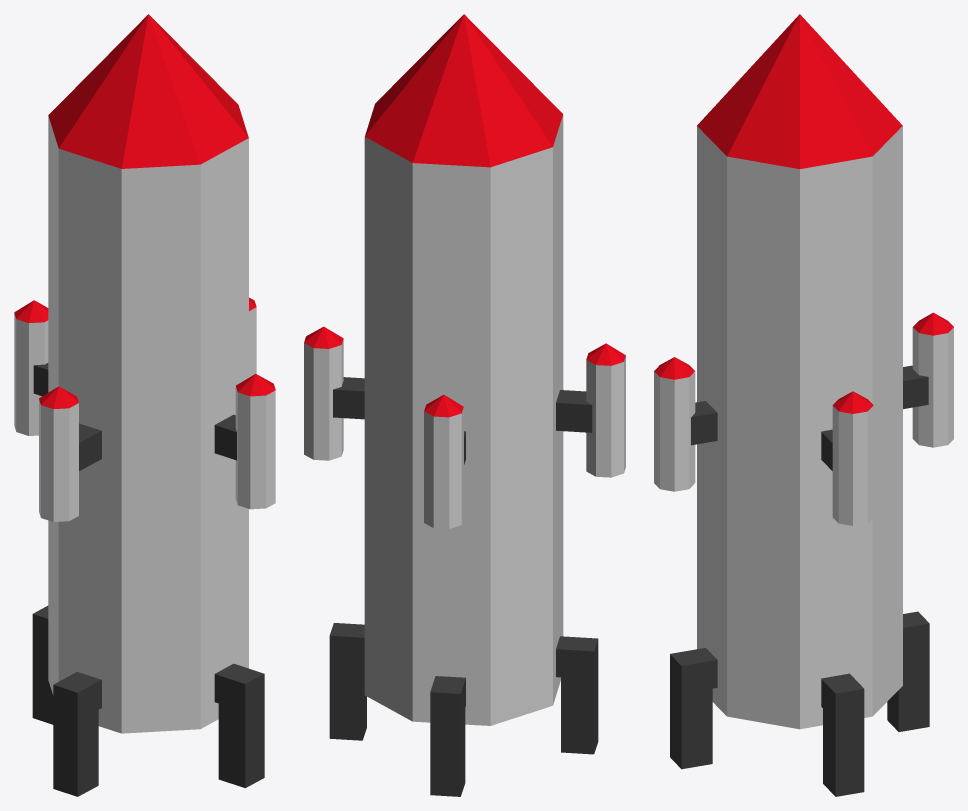
Rendered from Rocketship.fbx.
The picture shows the model from 3 angles, left to right: view 1: azimuth 30°, elevation 25°; view 2: azimuth 150°, elevation 25°; view 3: azimuth 270°, elevation 25°; orthographic projection.
Visible parts, largest first — view 1: Cube.001, Cube.003, Cube.010, Cube.005, Cube.007, Cube.006, Cube.004, Cube.002, Cube.008; view 2: Cube.001, Cube.010, Cube.006, Cube.007, Cube.008, Cube.003, Cube.002; view 3: Cube.001, Cube.003, Cube.008, Cube.005, Cube.010, Cube.006, Cube.004.
Part boxes in pixels (bbox=[...]): Cube.001: bbox=[48, 14, 248, 733]; Cube.003: bbox=[32, 605, 264, 788]; Cube.010: bbox=[53, 672, 101, 796]; Cube.005: bbox=[235, 374, 275, 509]; Cube.007: bbox=[39, 386, 78, 521]; Cube.006: bbox=[14, 300, 48, 435]; Cube.004: bbox=[33, 363, 236, 460]; Cube.002: bbox=[79, 423, 101, 470]; Cube.008: bbox=[249, 297, 256, 377]; Cube.001: bbox=[364, 14, 563, 725]; Cube.010: bbox=[329, 623, 598, 754]; Cube.006: bbox=[424, 395, 463, 528]; Cube.007: bbox=[586, 343, 625, 477]; Cube.008: bbox=[304, 326, 343, 460]; Cube.003: bbox=[430, 676, 465, 796]; Cube.002: bbox=[333, 377, 592, 432]; Cube.001: bbox=[697, 14, 902, 729]; Cube.003: bbox=[670, 611, 929, 769]; Cube.008: bbox=[832, 391, 873, 525]; Cube.005: bbox=[654, 357, 695, 491]; Cube.010: bbox=[821, 673, 864, 796]; Cube.006: bbox=[912, 312, 953, 447]; Cube.004: bbox=[691, 365, 928, 445].
Size of the model in its own units: 297 by 780 by 291.
